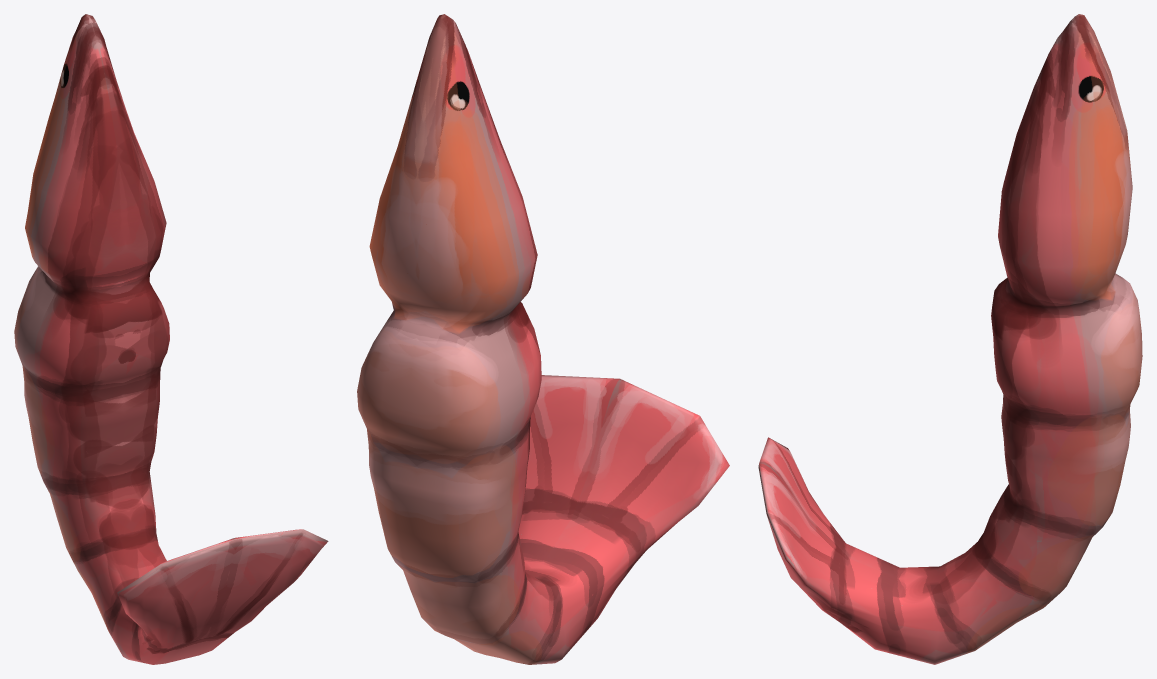
File: Shrimp01 1.fbx
3 renders of one model, left to right at view 1: azimuth 30°, elevation 25°; view 2: azimuth 150°, elevation 25°; view 3: azimuth 270°, elevation 25°, orthographic. The views are drawn at different scales.
Visible parts, largest first — view 1: Shrimp01; view 2: Shrimp01; view 3: Shrimp01.
Part boxes in pixels (x1,y1,x2,y2): Shrimp01: (14,14,328,664); Shrimp01: (357,14,729,664); Shrimp01: (758,14,1142,664).
Bounding box in the file's own units: 7240 × 19336 × 10537.
1 material, 1 textured.
